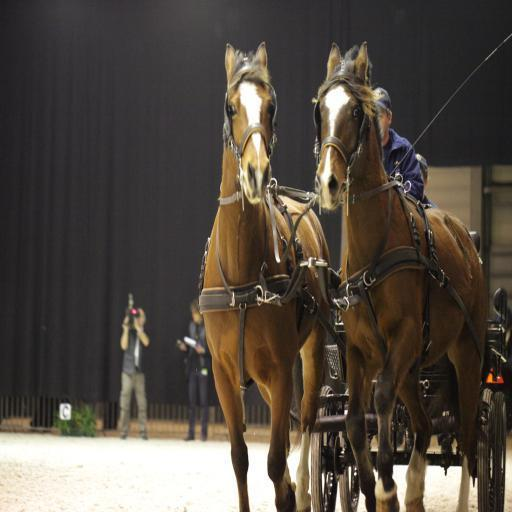horse: (311, 42, 489, 512), (202, 42, 332, 512)
